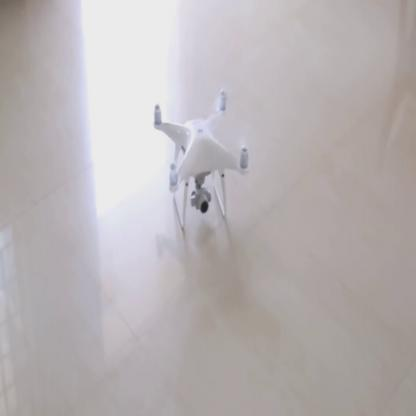drone: (148, 83, 254, 191)
